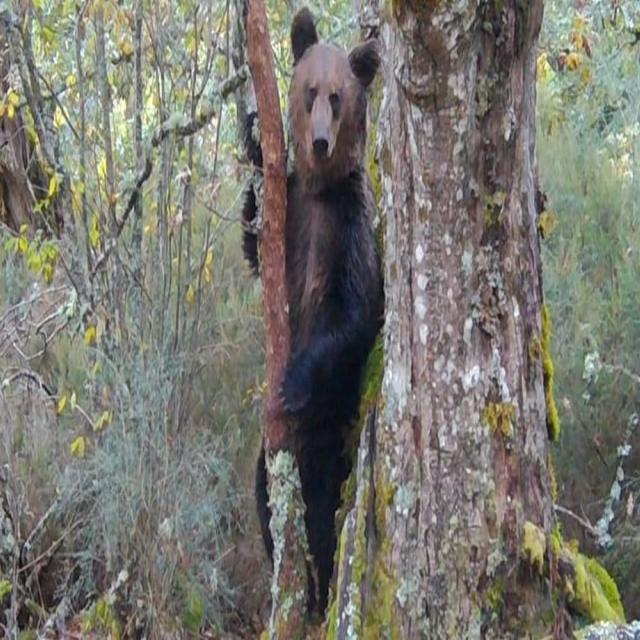Bear: (245, 0, 387, 640)
